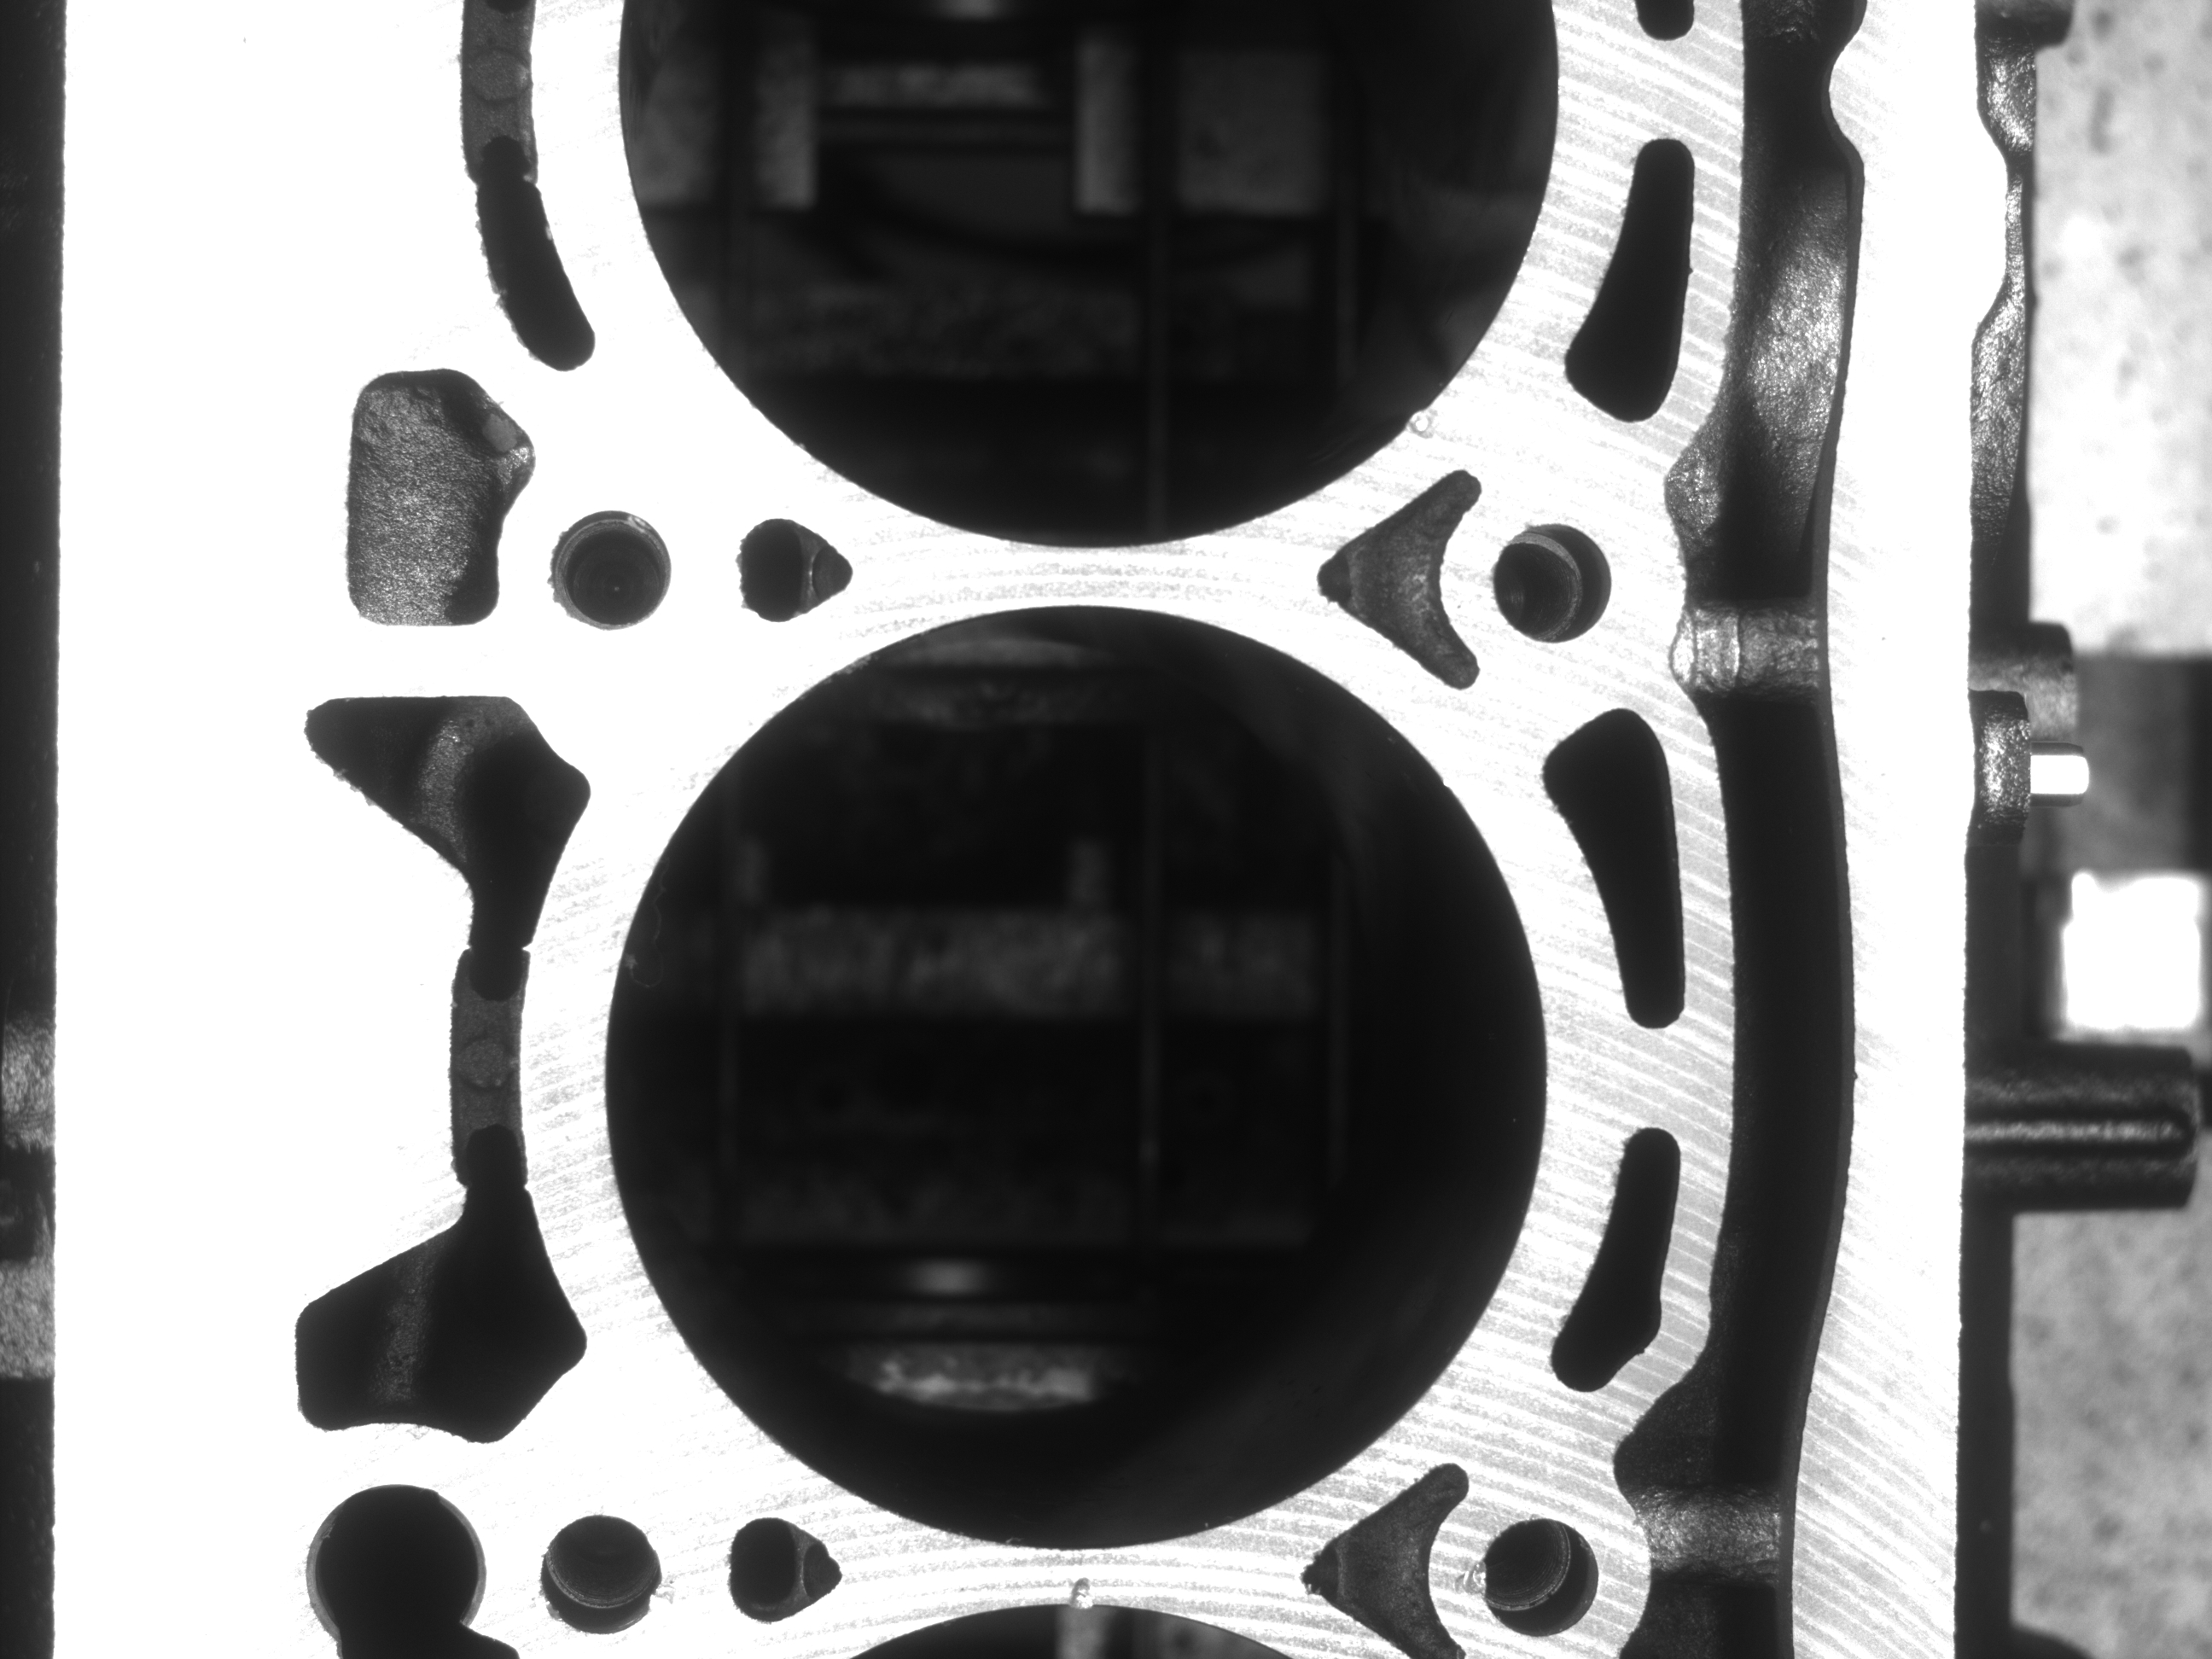shrinkage: (1059, 1558, 1099, 1607), (1447, 1556, 1486, 1598), (1393, 410, 1440, 432), (650, 1579, 686, 1603)
